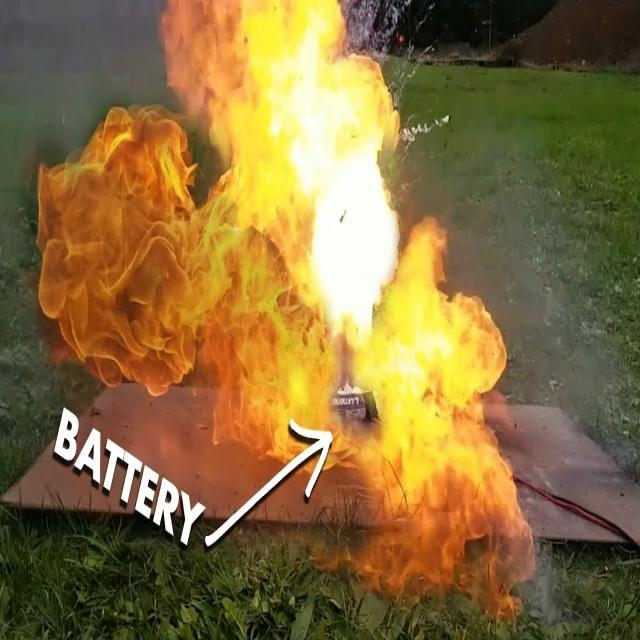fire: (64, 8, 466, 494)
